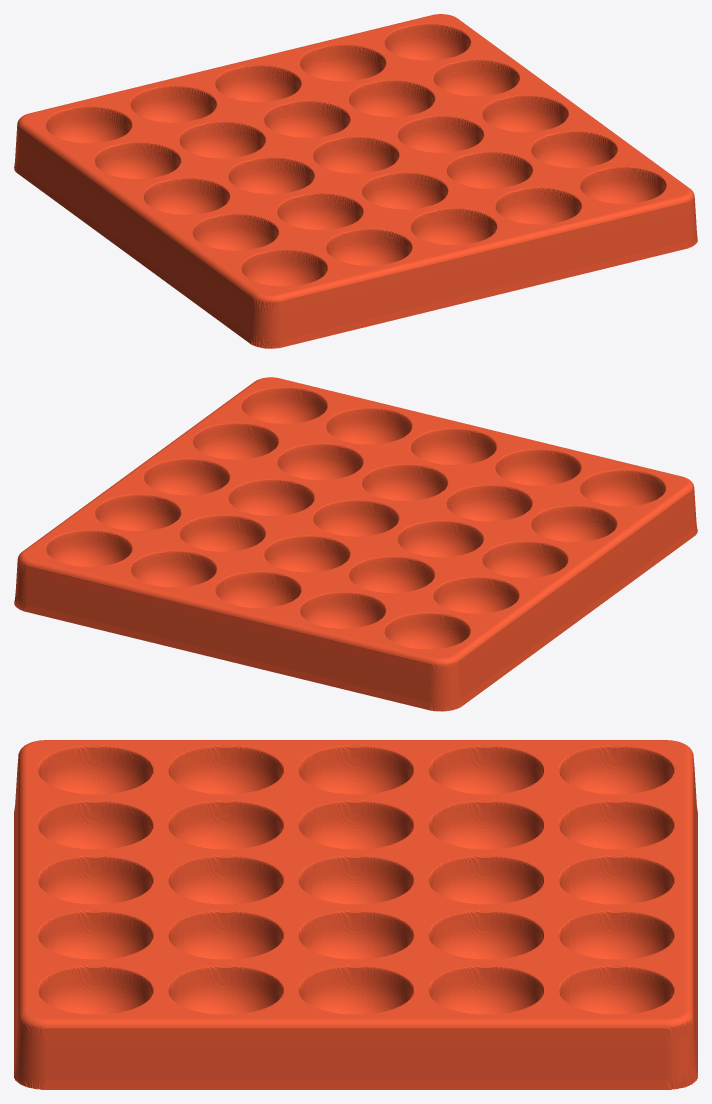
File: mold.glb
3 renders of one model, top to bottom at view 1: azimuth 30°, elevation 25°; view 2: azimuth 150°, elevation 25°; view 3: azimuth 270°, elevation 25°, orthographic. The views are drawn at different scales.
Visible parts, largest first — view 1: geometry_0; view 2: geometry_0; view 3: geometry_0.
Boxes of the visible parts, bbox=[...] form: geometry_0: bbox=[14, 14, 697, 348]; geometry_0: bbox=[14, 377, 697, 711]; geometry_0: bbox=[14, 740, 697, 1089].
Bounding box in the file's own units: 0.193 × 0.0204 × 0.193.
